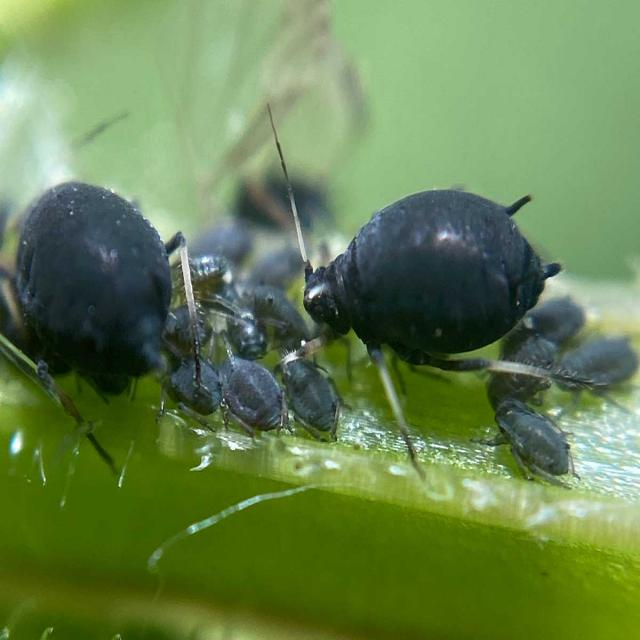Aphid-Grown-: (4, 172, 207, 432), (276, 183, 569, 354), (473, 394, 582, 493), (222, 341, 286, 441), (279, 350, 343, 446), (243, 274, 314, 356), (549, 337, 637, 399)
